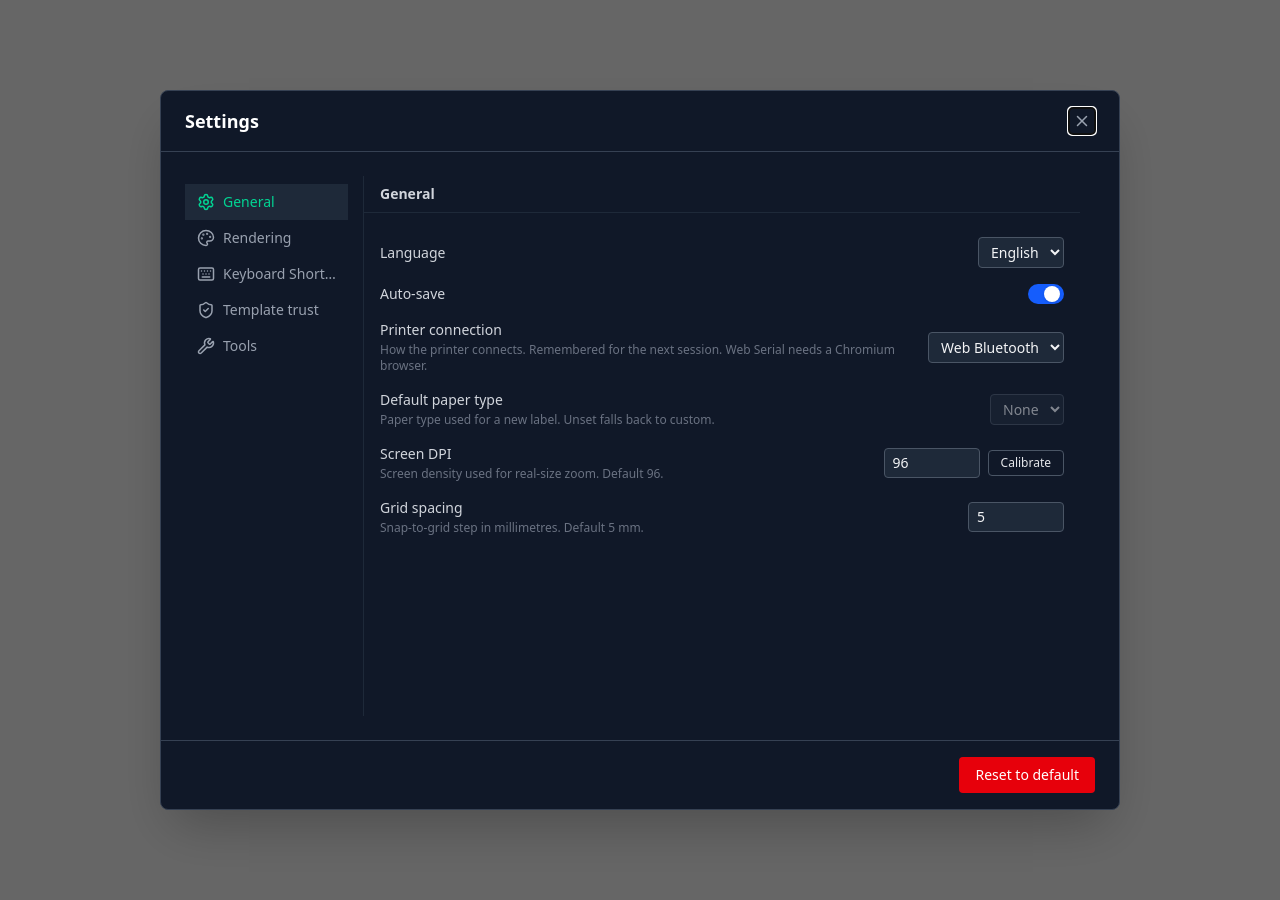
Scenario: SettingsModal registers the Rendering section › shows the section content when its sidebar entry is picked
Click the button "Rendering": (266, 238) [185,220,348,256]
(page scrolled)
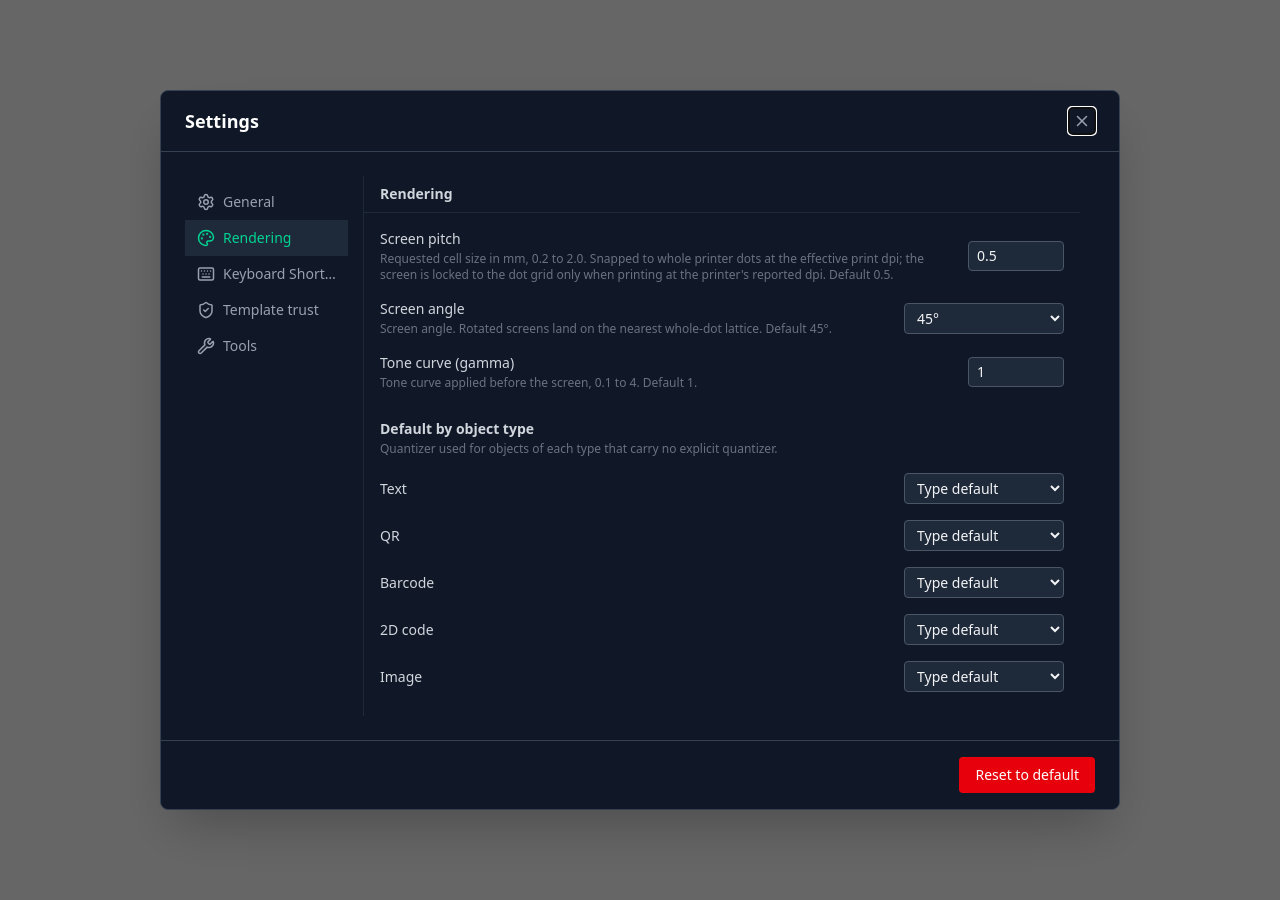
Check: the dropdown labelled "Image" is shown, box [904,661,1064,692]
